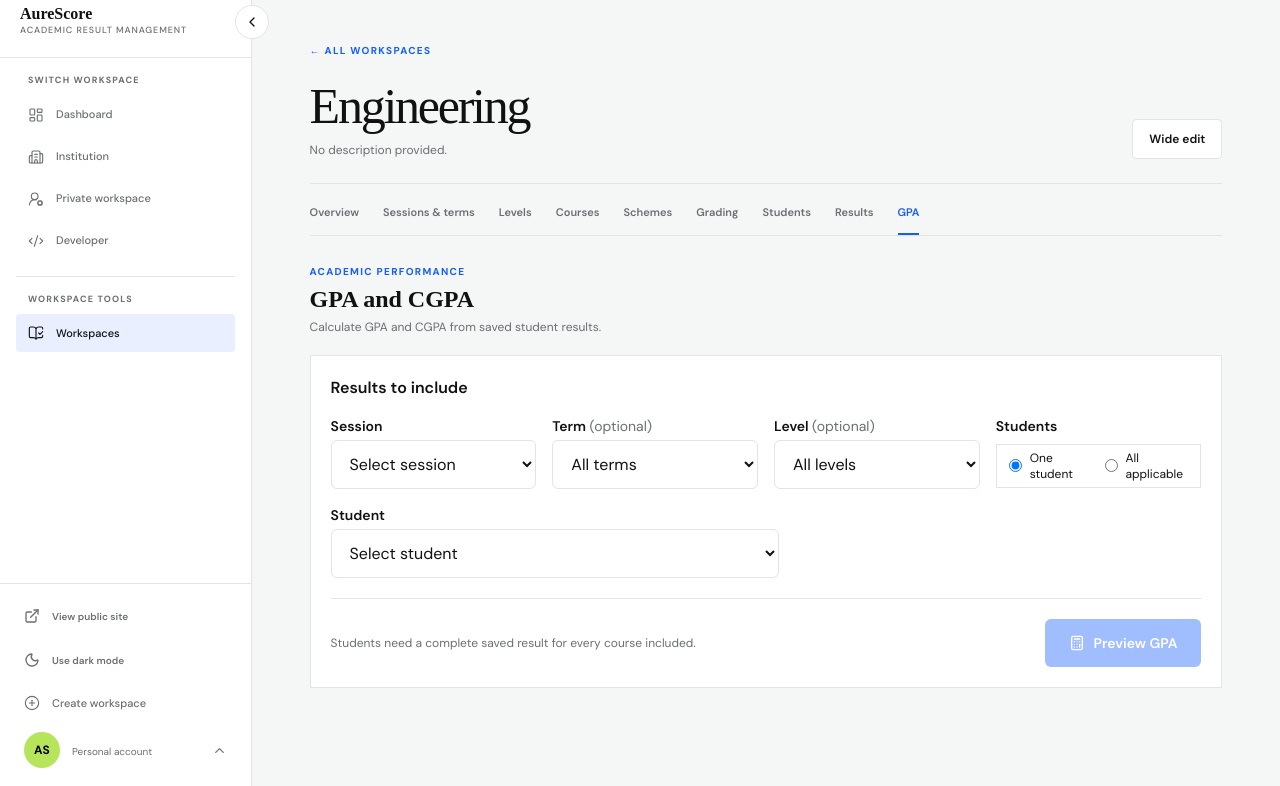
Test: GPA workspace flow › renders authoritative course audit values and saves only scope before presenting repeated save as update
This screenshot has width=1280, height=786.
Select "2026/2027" in the dropdown labelled "Session" at (433, 464), box [331,440,536,489]
Select "First Semester" in the dropdown labelled "Term (optional)" at (655, 464), box [552,440,758,489]
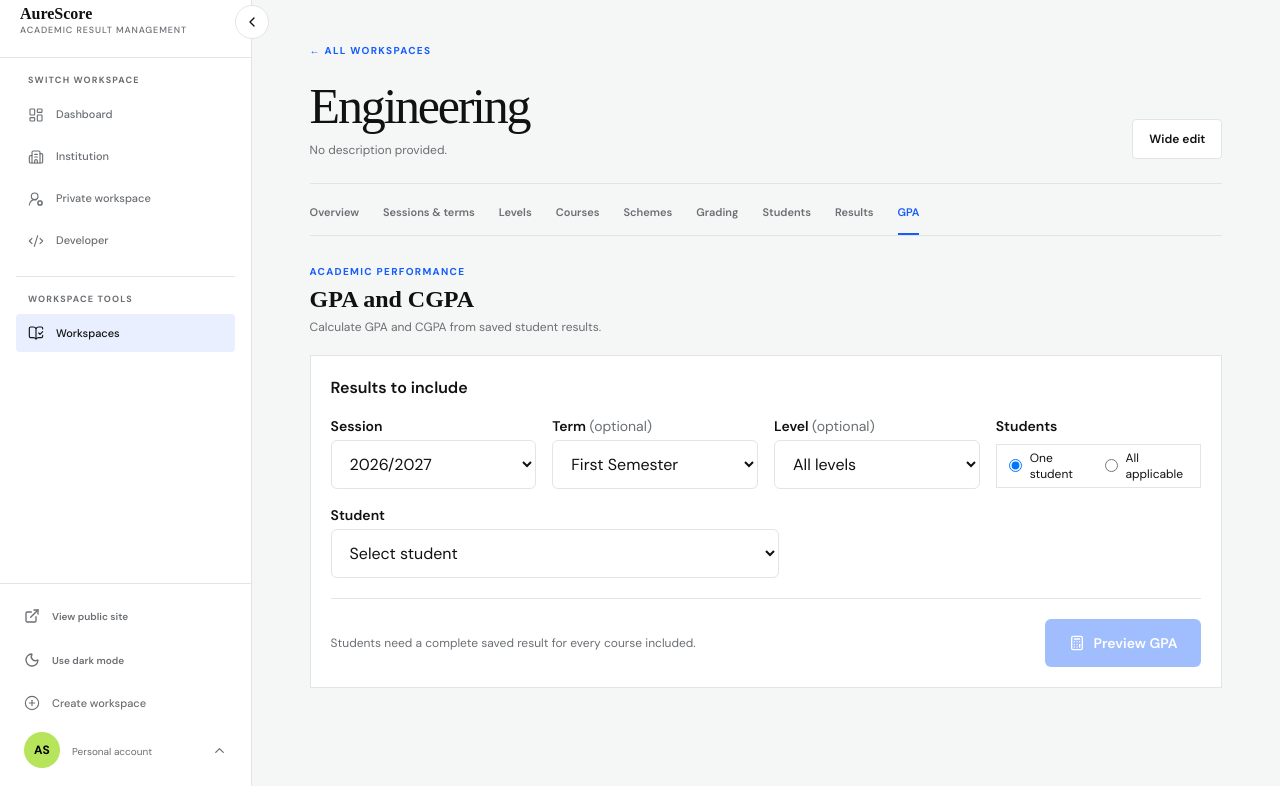
Select "L400 — 400 Level" in the dropdown labelled "Level (optional)" at (877, 464), box [774,440,980,489]
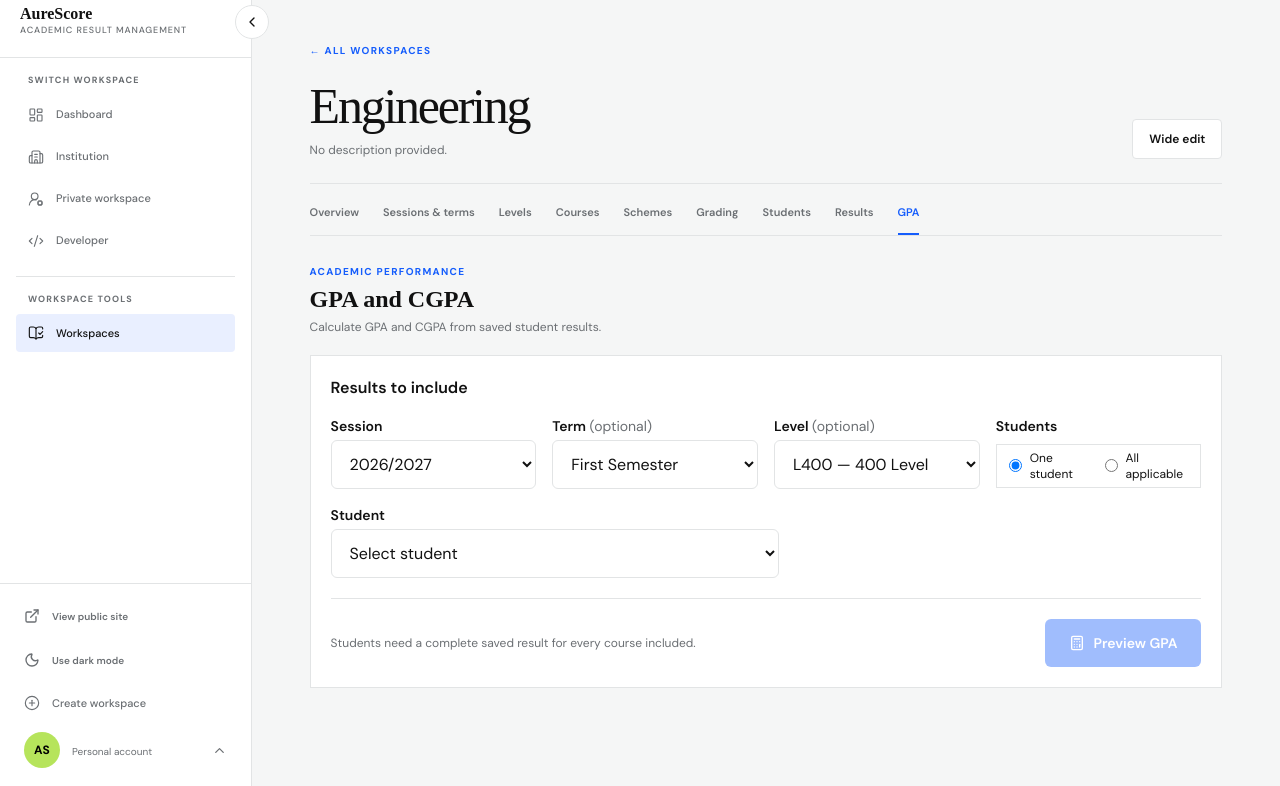
Select "Ada Lovelace · ENG/001" in the dropdown labelled "Student" at (555, 553), box [331,529,779,578]
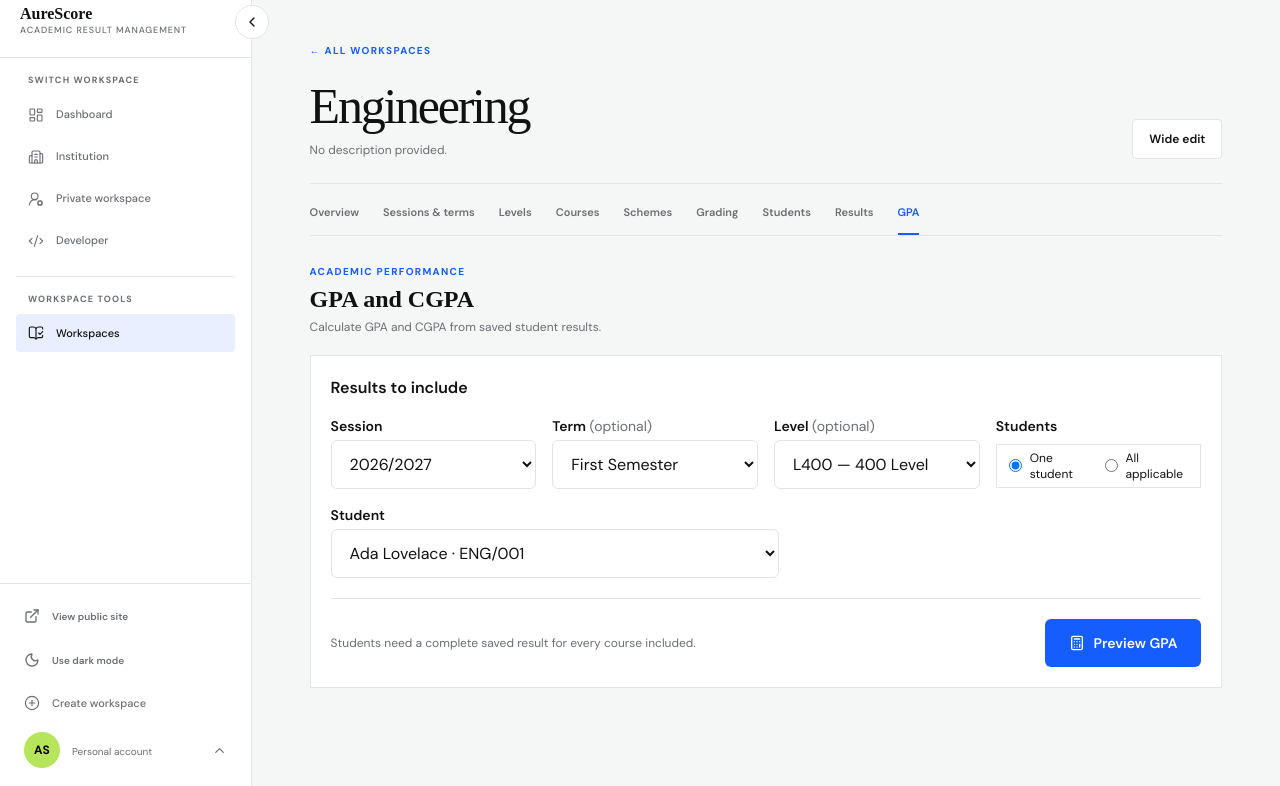
Click the button "Preview GPA" at (1123, 643), box [1046,619,1201,667]
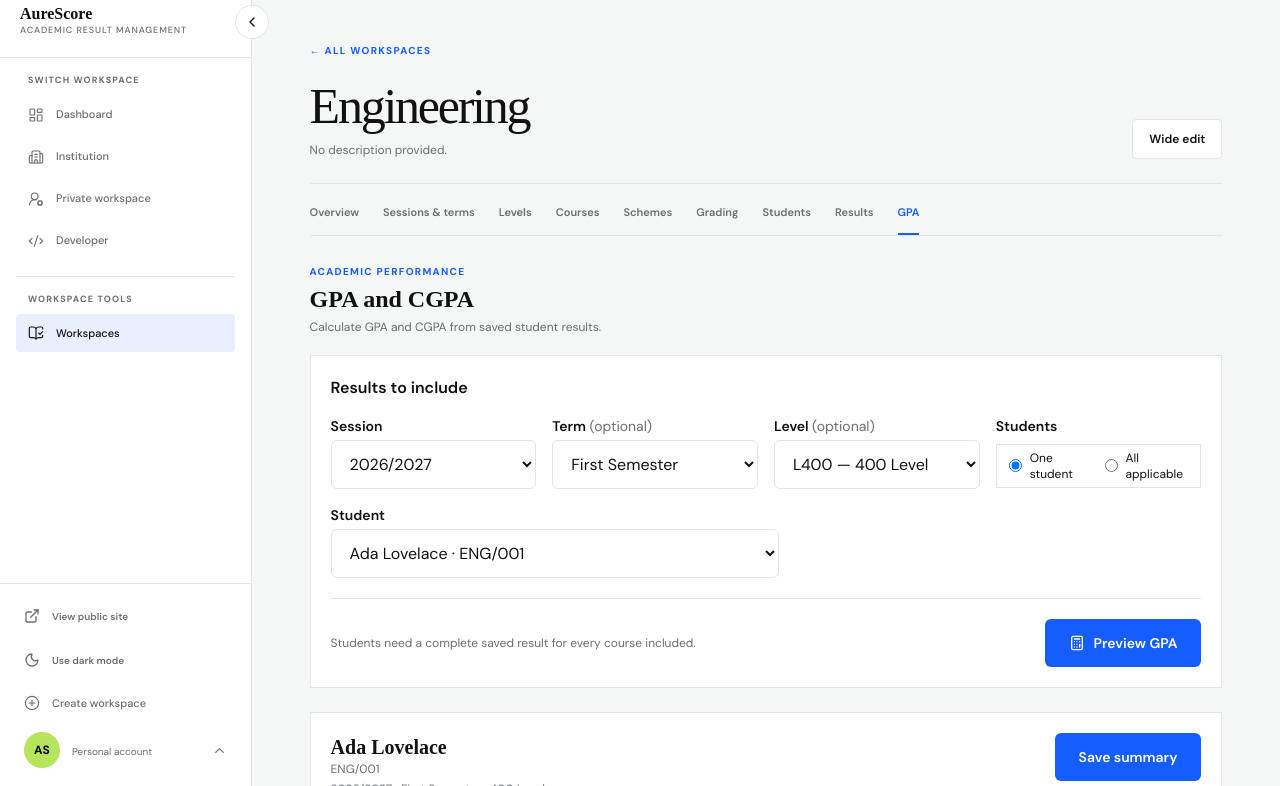
Click the button "Save summary" at (1128, 757), box [1054,733,1201,781]
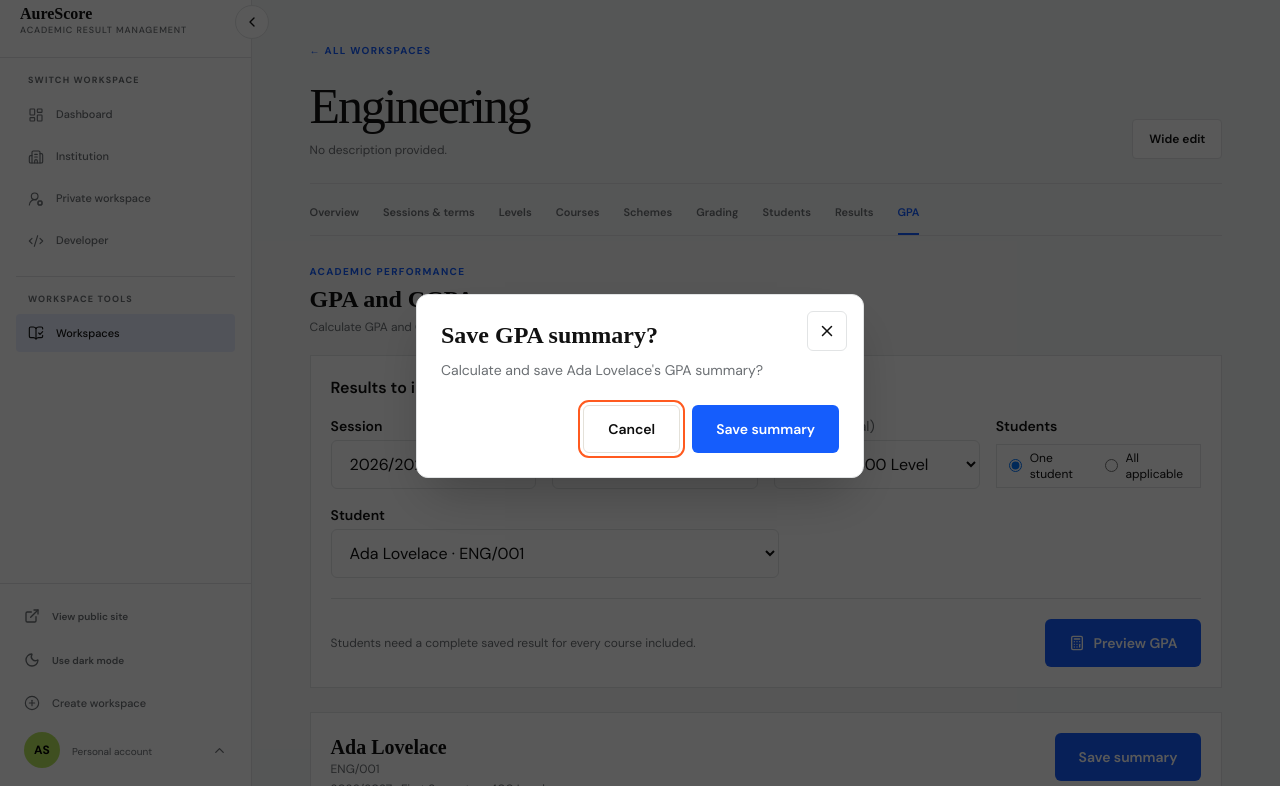
Click the button "Save summary" at (766, 429), box [692,405,839,453]
(page scrolled)
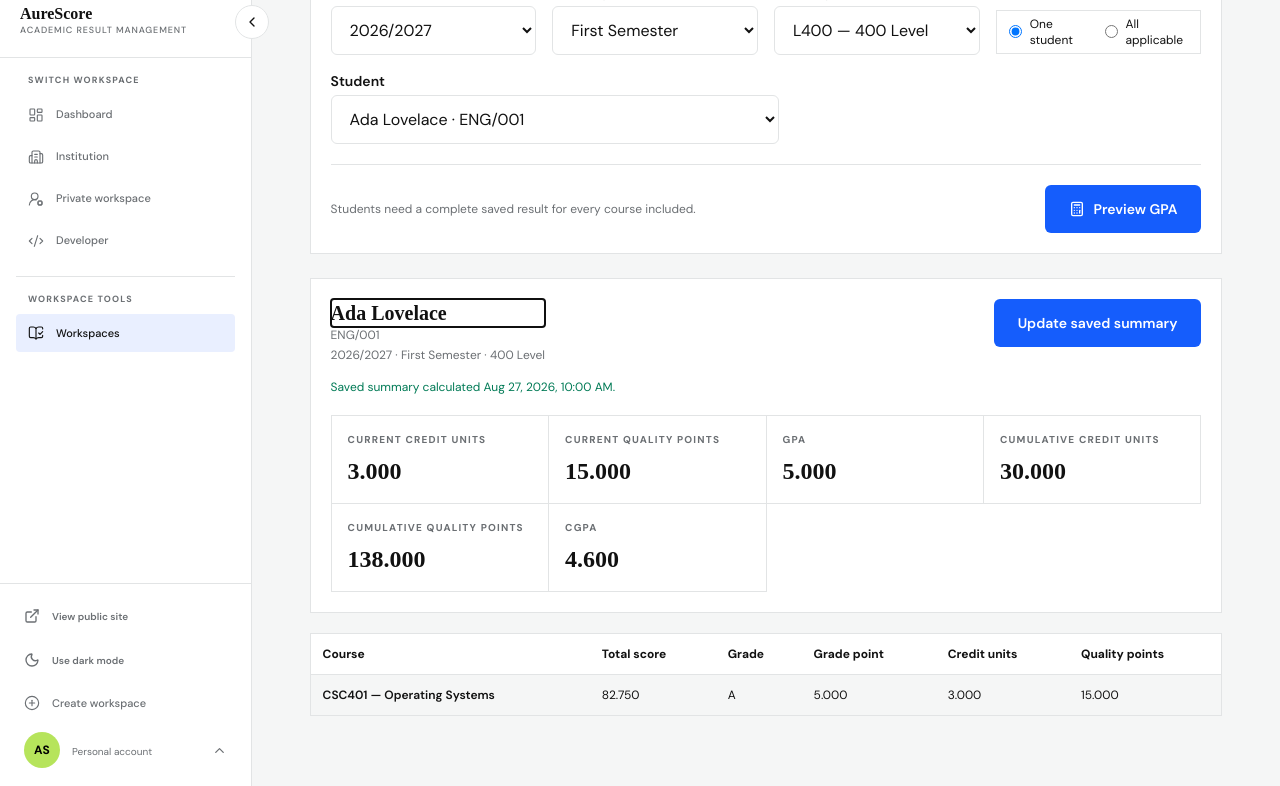
Result: the button "Update saved summary" is shown at [994,299,1201,347]
Result: the text "Saved summary calculated Aug 27, 2026, 10:00 AM." is shown at [331,379,615,395]
